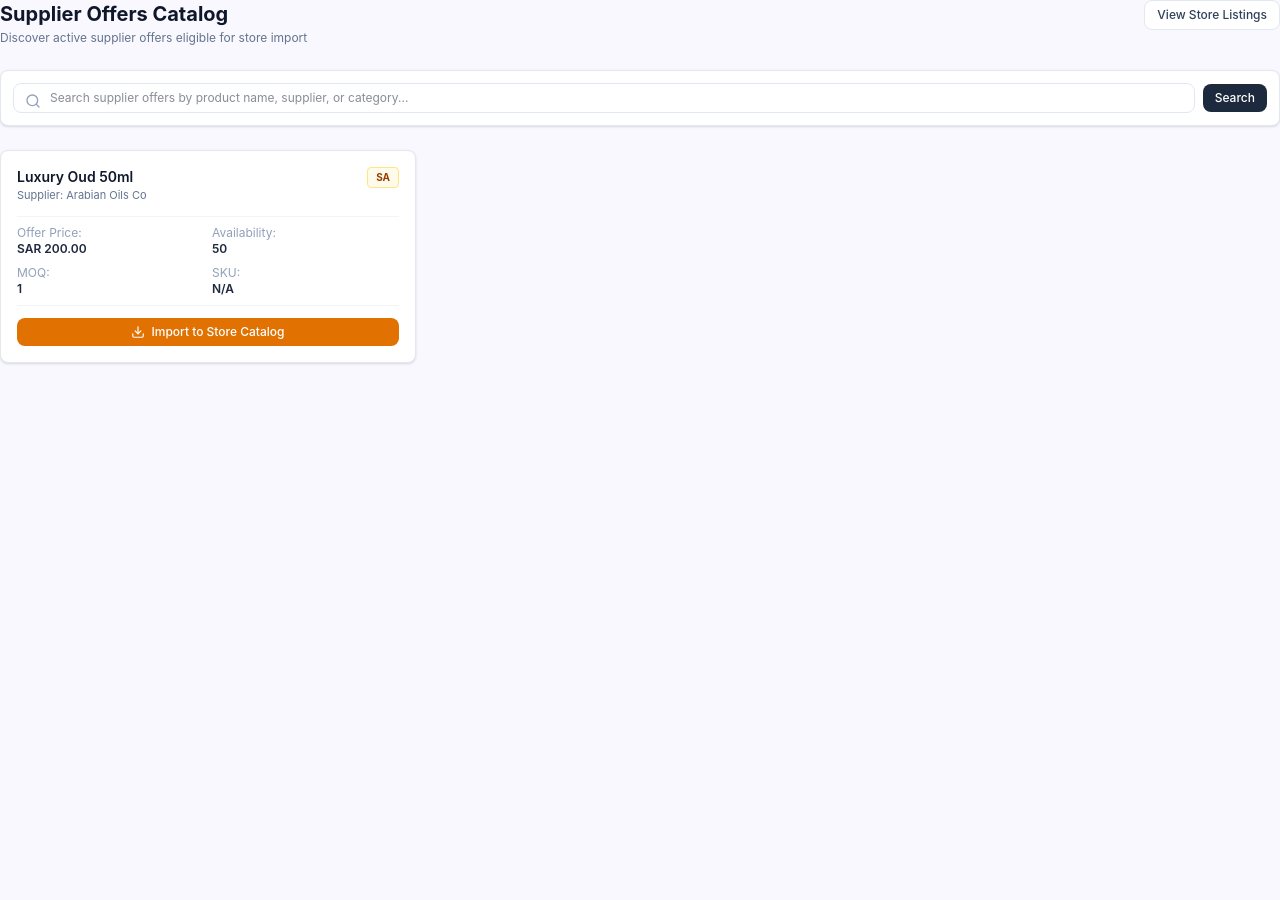
Test case: SDS-2 — Seller Catalog Economics › Supplier Offer Import Modal & Pricing Configuration › opens import configuration modal and submits import with calculated markup
Expected: the heading "Luxury Oud 50ml" is shown, [17,167,146,187]
Click the button "Import to Store Catalog": (208, 332) [17,318,399,346]
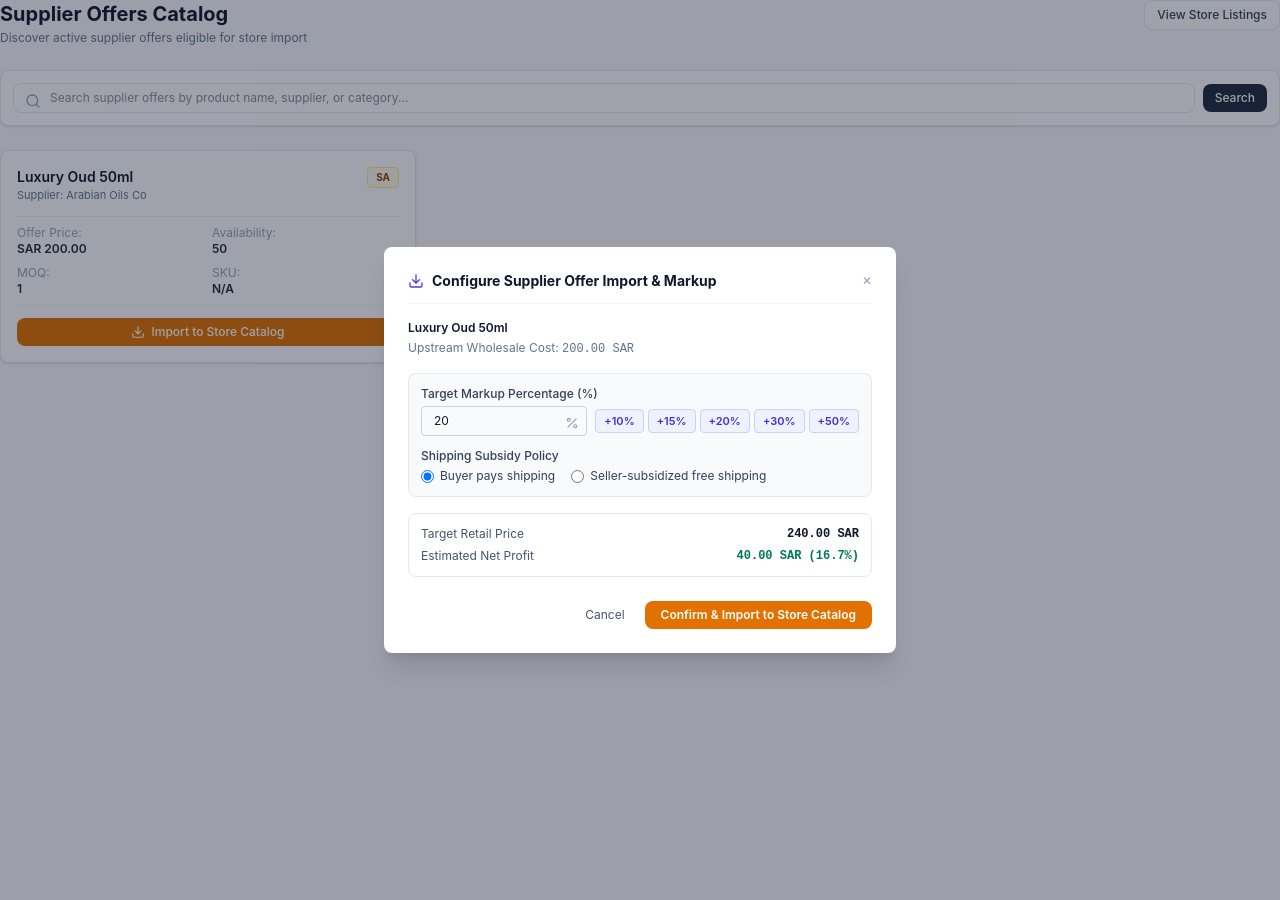
Result: the heading "Configure Supplier Offer Import & Markup" is shown at [408,271,717,291]
Result: the text "Target Markup Percentage (%)" is shown at [421,386,598,401]
Click the button "Confirm & Import to Store Catalog": (758, 615) [645,601,872,629]
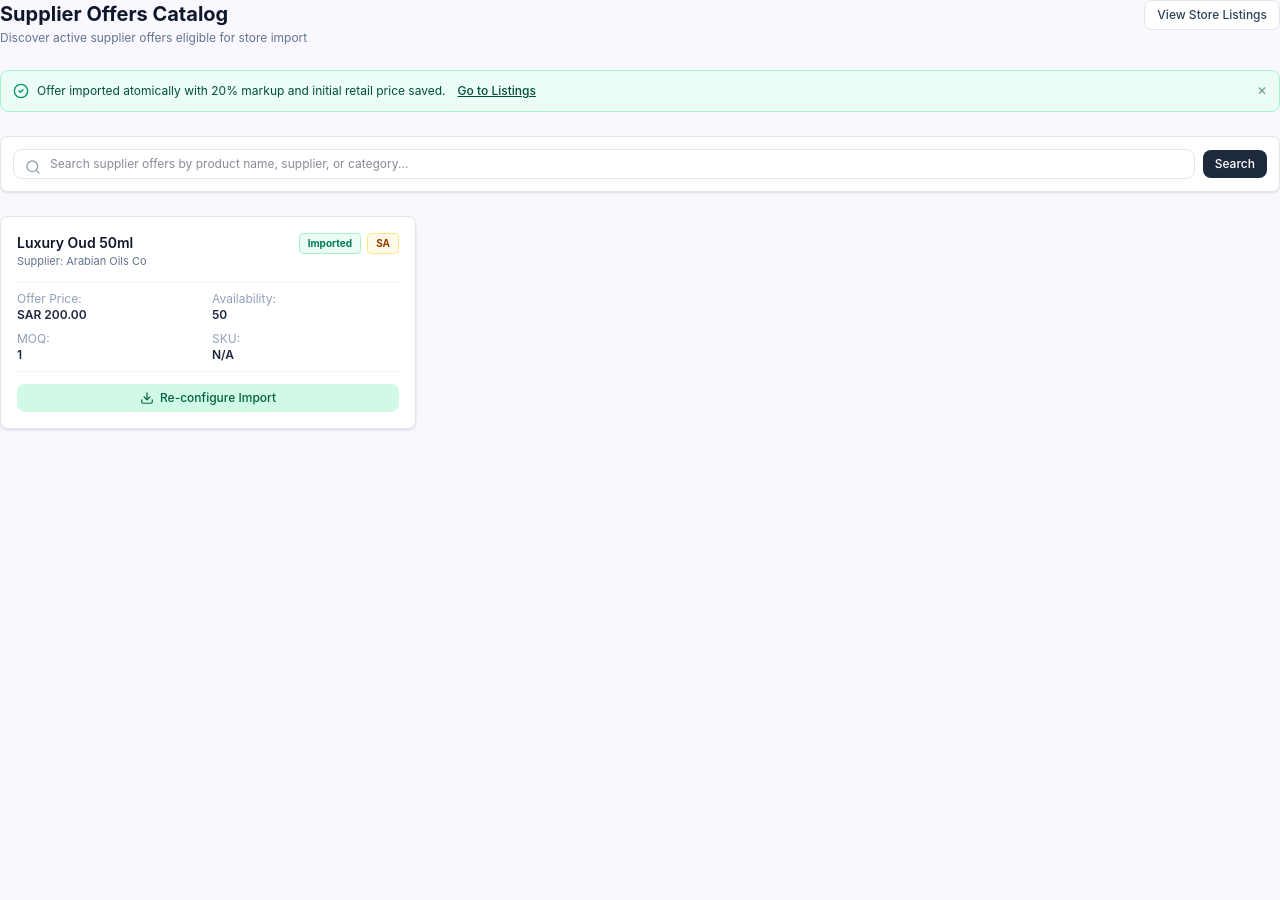
Result: the text "Offer imported atomically with 20% markup" is shown at [37,83,446,98]
